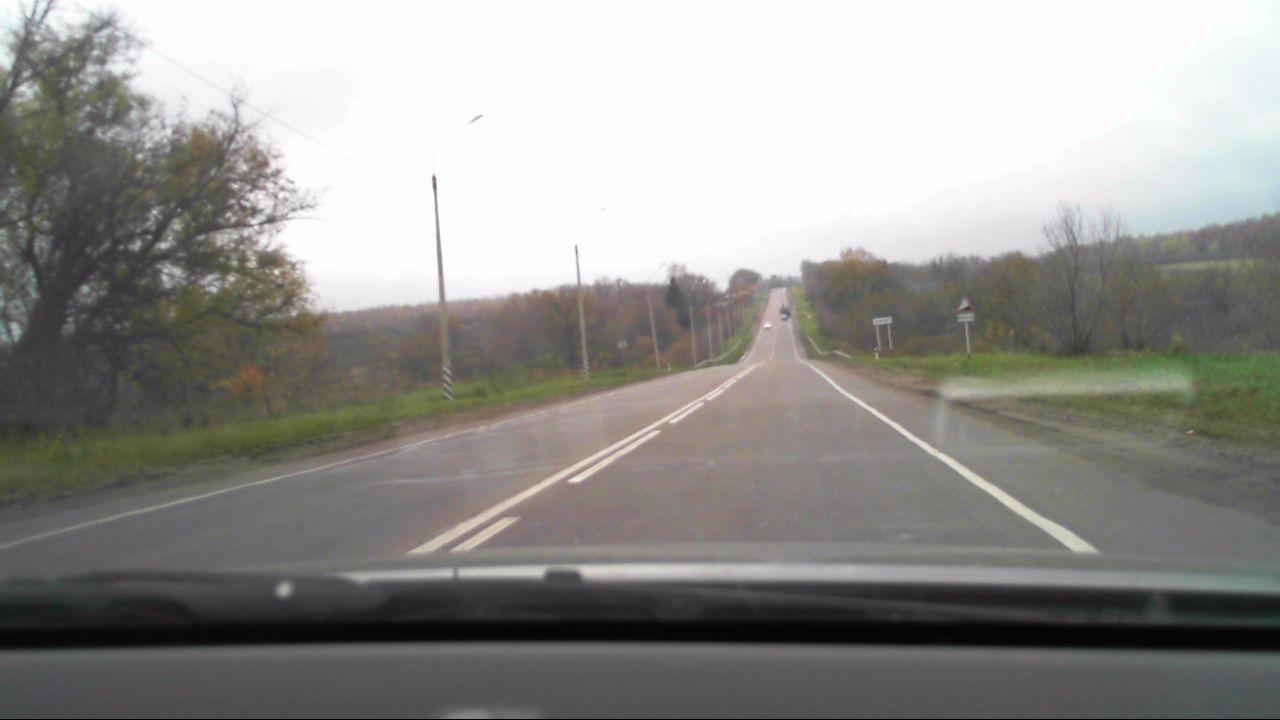1_14: (954, 295, 974, 313)
5_23_1: (874, 318, 893, 327)
8_2_1: (956, 314, 975, 323)
